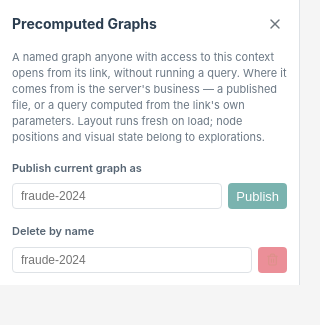
Scenario: PrecomputedGraphPanel › saving › reports a write failure
Step 1. Type "c1" into the field with test id "precomputed-graph-name-input" → (117, 196), box 12,183 -> 222,209
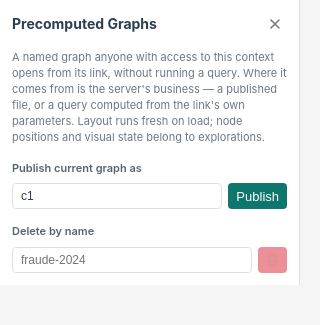
Step 2. Click the button with test id "precomputed-graph-save-button" → (258, 196), box 228,183 -> 287,209
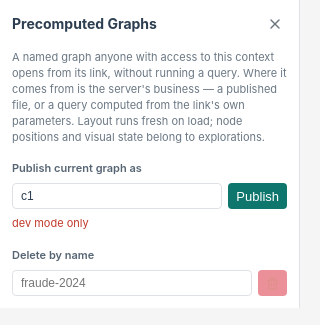
Result: the text with test id "precomputed-graph-error" reads "dev mode only" at 12,216 -> 89,230
